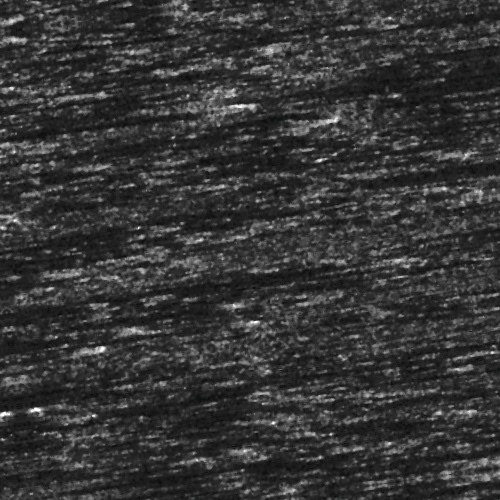object: (378, 481, 500, 496), (428, 162, 500, 179), (269, 122, 362, 135), (383, 376, 476, 387), (209, 99, 292, 110), (455, 471, 500, 488), (235, 432, 288, 441), (115, 29, 168, 38), (208, 486, 271, 493), (105, 210, 146, 219), (257, 63, 320, 68), (153, 473, 206, 478), (441, 178, 494, 183), (289, 153, 342, 158), (328, 498, 443, 500), (208, 317, 249, 322), (479, 97, 500, 102), (343, 274, 374, 277)
shadow: (209, 162, 500, 179), (33, 376, 429, 387), (246, 471, 500, 488), (71, 122, 316, 135), (302, 481, 456, 496), (83, 99, 250, 110), (99, 432, 261, 441), (384, 41, 500, 52), (256, 97, 495, 102), (121, 63, 289, 68), (63, 317, 228, 322), (17, 473, 180, 478), (55, 29, 141, 38), (40, 210, 125, 219), (409, 339, 500, 346), (159, 486, 239, 493), (437, 258, 500, 265), (234, 153, 315, 158), (388, 178, 467, 183), (458, 462, 500, 471), (229, 498, 386, 500), (279, 274, 358, 277)
